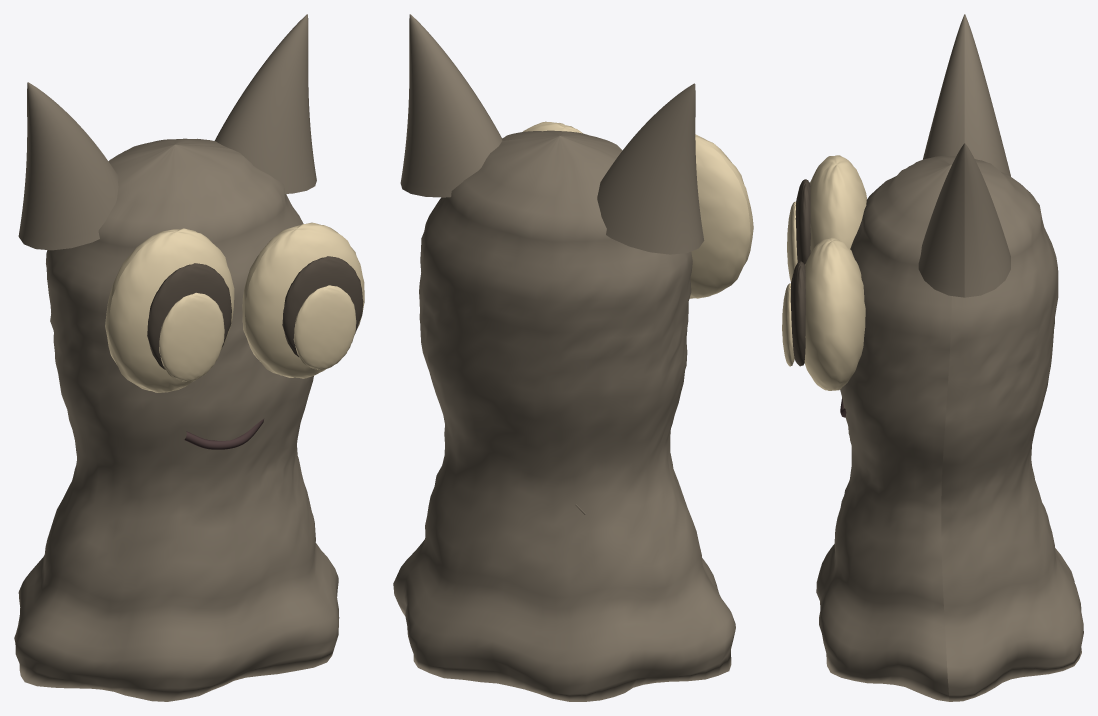
Rendered from moss-reference-v003.glb.
3 renders of one model, left to right at view 1: azimuth 30°, elevation 25°; view 2: azimuth 150°, elevation 25°; view 3: azimuth 270°, elevation 25°, orthographic. The views are drawn at different scales.
Parts seen in each view (by area): view 1: Single sculpted body with puddled scallop hem, Soft pointed cat ear (×2), Hand pressed oversized cream eye (×2), Uneven clay button iris (×2), Dark recessed eye rim (×2), Crooked pressed-in smile; view 2: Single sculpted body with puddled scallop hem, Soft pointed cat ear (×2), Hand pressed oversized cream eye; view 3: Single sculpted body with puddled scallop hem, Soft pointed cat ear (×2), Hand pressed oversized cream eye (×2), Dark recessed eye rim (×2), Uneven clay button iris (×2).
Part boxes in pixels (bbox=[...]): Single sculpted body with puddled scallop hem: bbox=[14, 138, 339, 701]; Soft pointed cat ear (×2): bbox=[18, 14, 316, 250]; Hand pressed oversized cream eye (×2): bbox=[105, 222, 364, 392]; Uneven clay button iris (×2): bbox=[159, 285, 356, 381]; Dark recessed eye rim (×2): bbox=[147, 256, 363, 369]; Crooked pressed-in smile: bbox=[183, 418, 264, 449]; Single sculpted body with puddled scallop hem: bbox=[393, 130, 735, 701]; Soft pointed cat ear (×2): bbox=[400, 14, 704, 254]; Hand pressed oversized cream eye: bbox=[689, 134, 753, 298]; Single sculpted body with puddled scallop hem: bbox=[816, 156, 1083, 701]; Soft pointed cat ear (×2): bbox=[918, 14, 1010, 297]; Hand pressed oversized cream eye (×2): bbox=[804, 155, 866, 390]; Dark recessed eye rim (×2): bbox=[790, 179, 810, 366]; Uneven clay button iris (×2): bbox=[782, 201, 797, 366].
Size of the model in its own units: 0.7673 by 1.35 by 0.6676.
